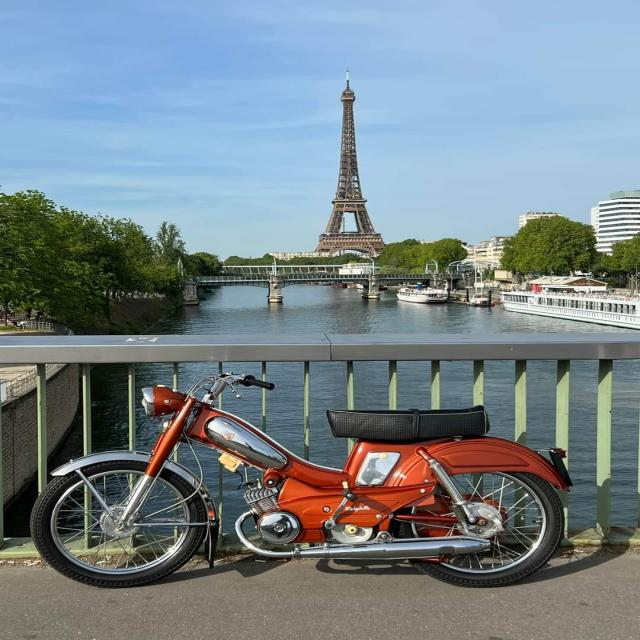Motorcycle: (32, 374, 570, 588)
